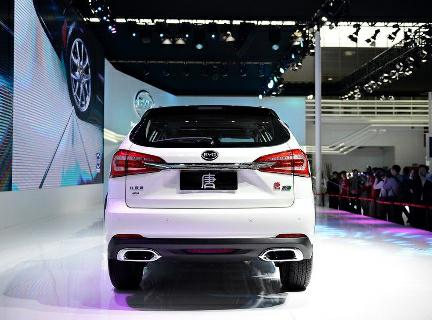比亚迪-唐: (99, 102, 321, 297)
